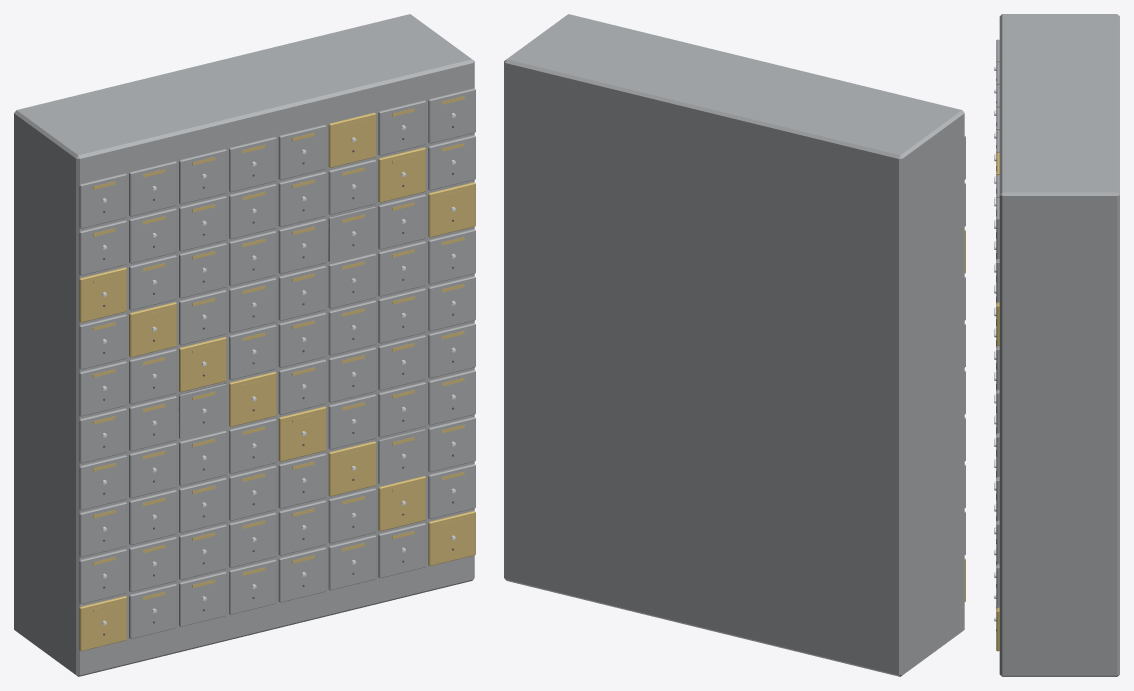
The model's file is cofres_aluguel.glb.
3 views of the same model, side by side, from view 1: azimuth 30°, elevation 25°; view 2: azimuth 150°, elevation 25°; view 3: azimuth 270°, elevation 25° (orthographic). The views are drawn at different scales.
Visible parts, largest first — view 1: cofres_aluguel_aco_cofre, cofres_aluguel_ouro_velho, cofres_aluguel_cofre_5_7_aco_cofre, cofres_aluguel_cofre_6_2_aco_cofre, cofres_aluguel_cofre_2_4_aco_cofre, cofres_aluguel_aco_polido; view 2: cofres_aluguel_aco_cofre; view 3: cofres_aluguel_aco_cofre, cofres_aluguel_aco_polido, cofres_aluguel_ouro_velho.
Part boxes in pixels (x1,y1,x2,y2): cofres_aluguel_aco_cofre: (14, 14, 475, 676); cofres_aluguel_ouro_velho: (79, 96, 475, 651); cofres_aluguel_cofre_5_7_aco_cofre: (328, 206, 376, 262); cofres_aluguel_cofre_6_2_aco_cofre: (378, 429, 426, 484); cofres_aluguel_cofre_2_4_aco_cofre: (179, 384, 226, 439); cofres_aluguel_aco_polido: (102, 113, 455, 625); cofres_aluguel_aco_cofre: (504, 14, 965, 676); cofres_aluguel_aco_cofre: (996, 14, 1119, 676); cofres_aluguel_aco_polido: (994, 66, 996, 621); cofres_aluguel_ouro_velho: (996, 152, 999, 651).
Size of the model in its own units: 1.6 by 2 by 0.471.
